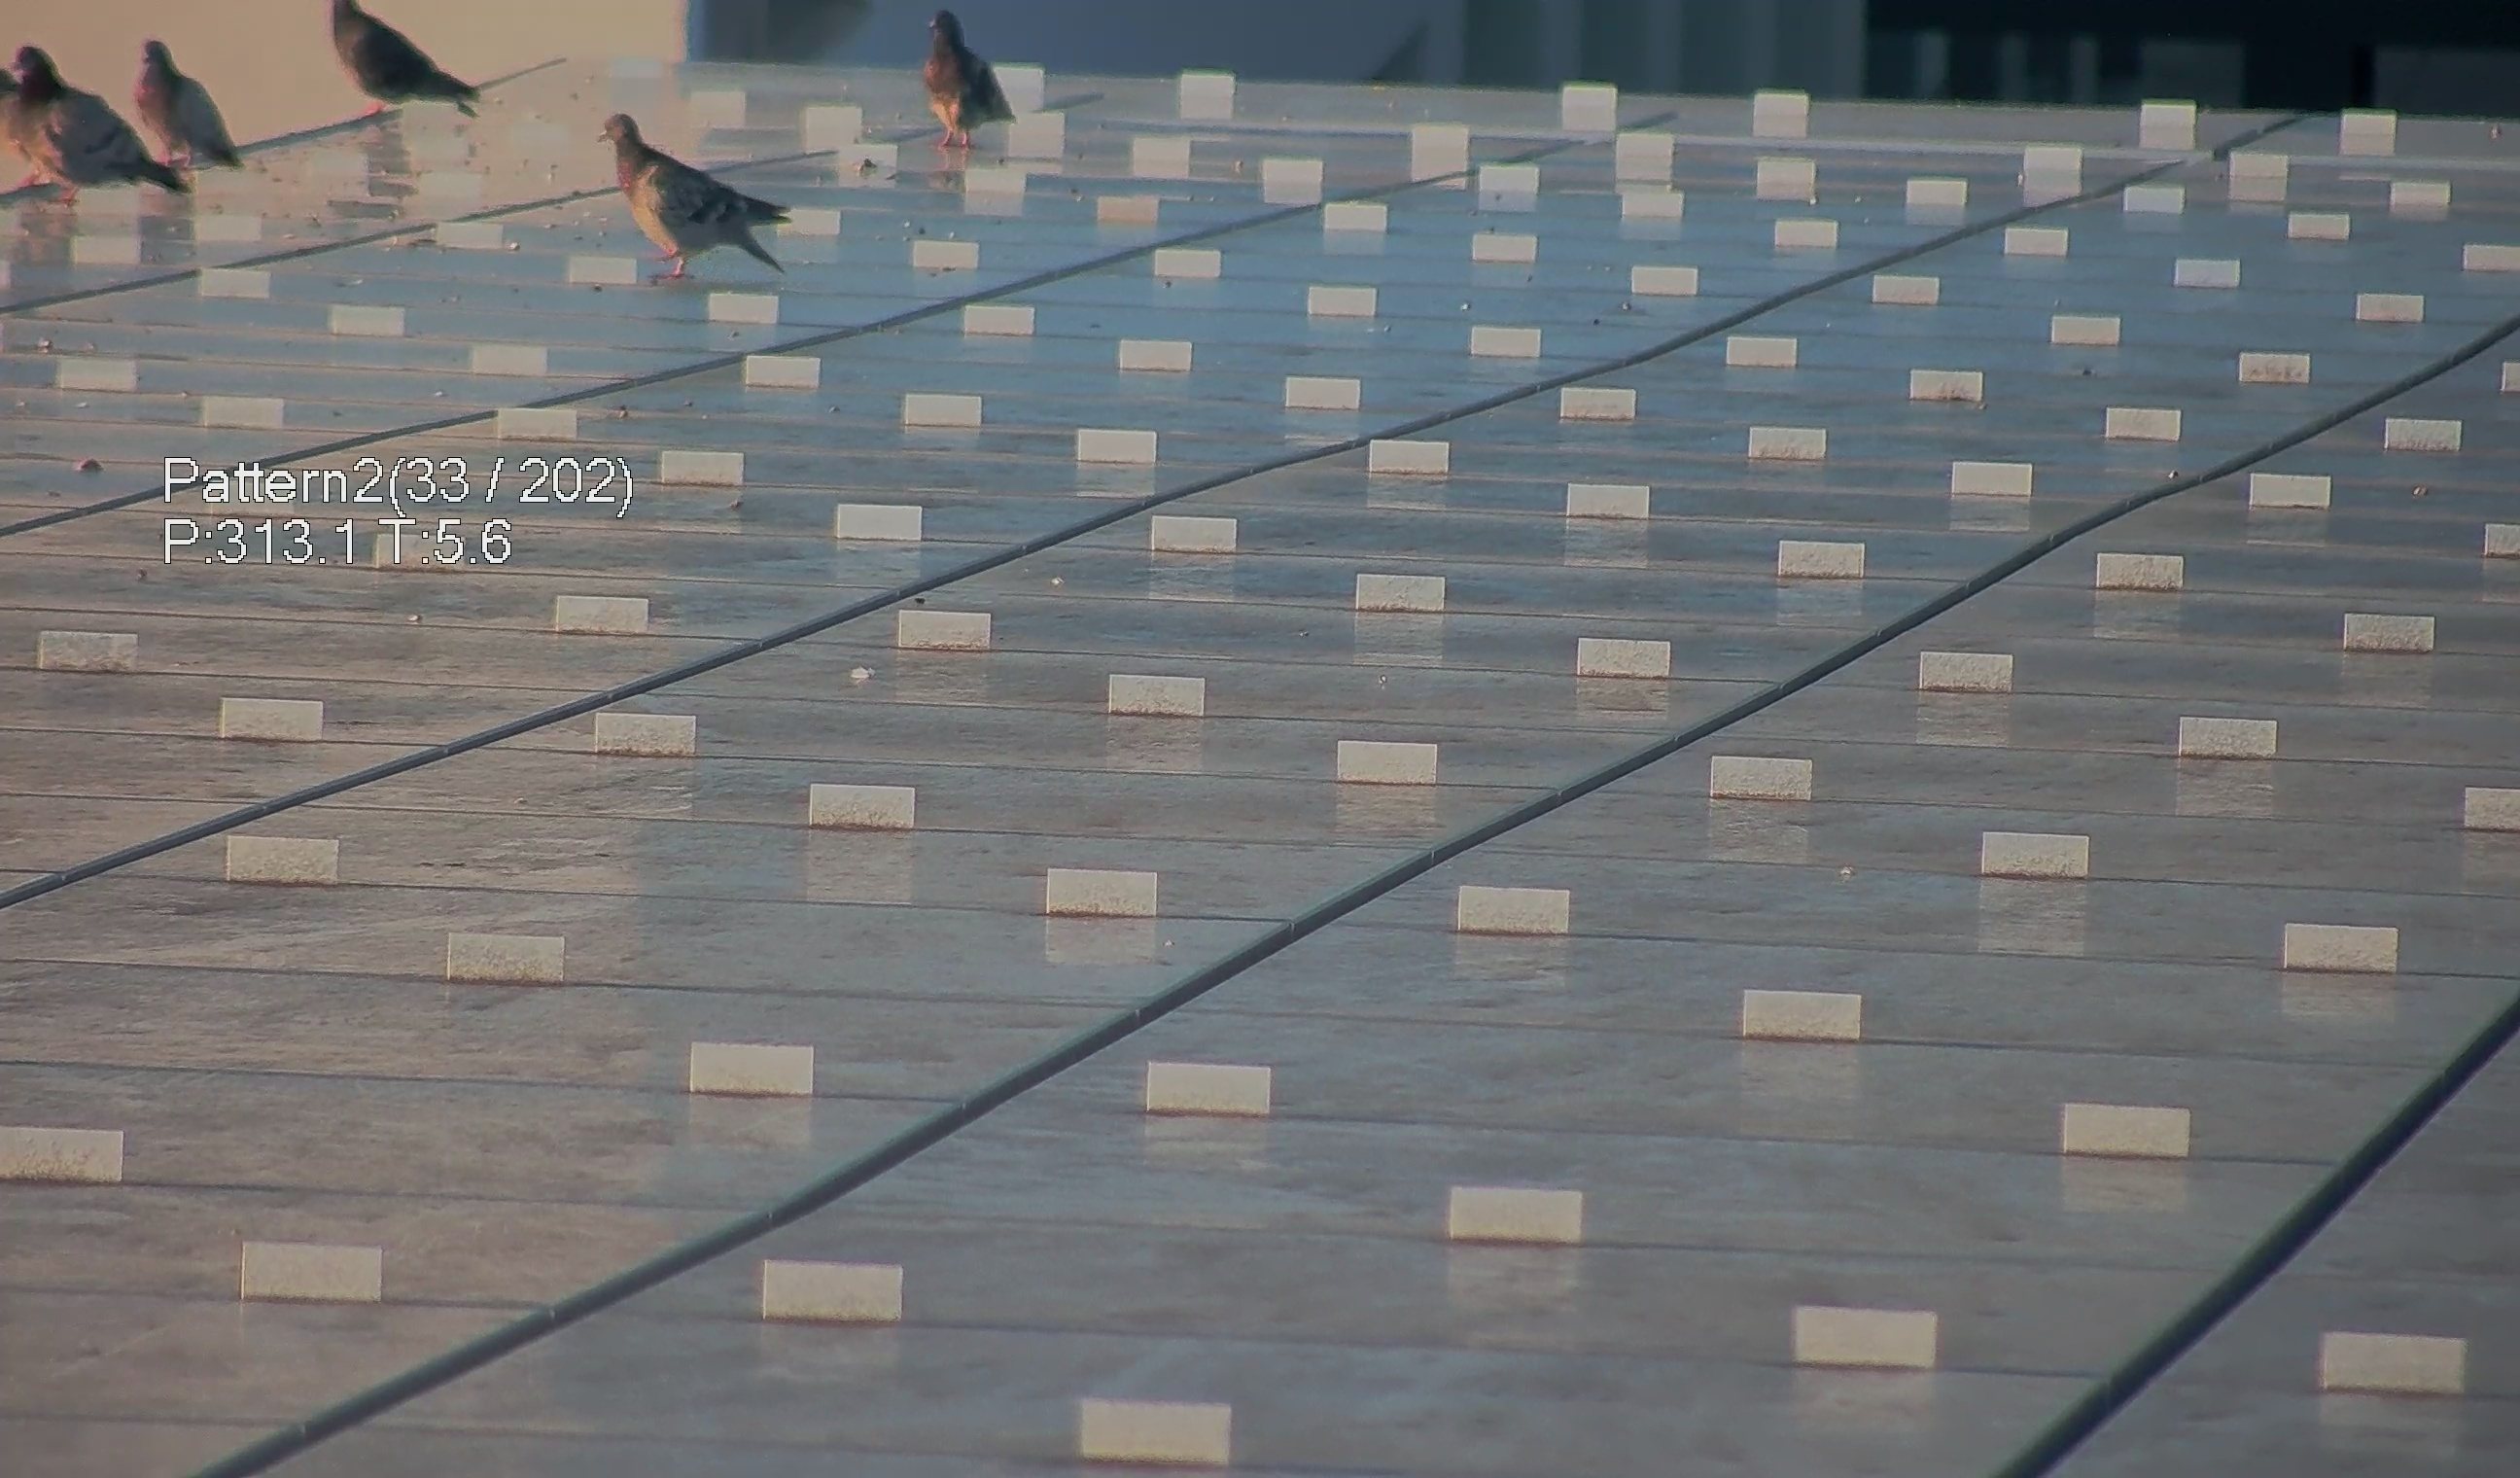Pigeon: (584, 100, 795, 283), (4, 40, 188, 209), (109, 19, 262, 178), (897, 9, 1008, 185), (315, 0, 482, 116)
